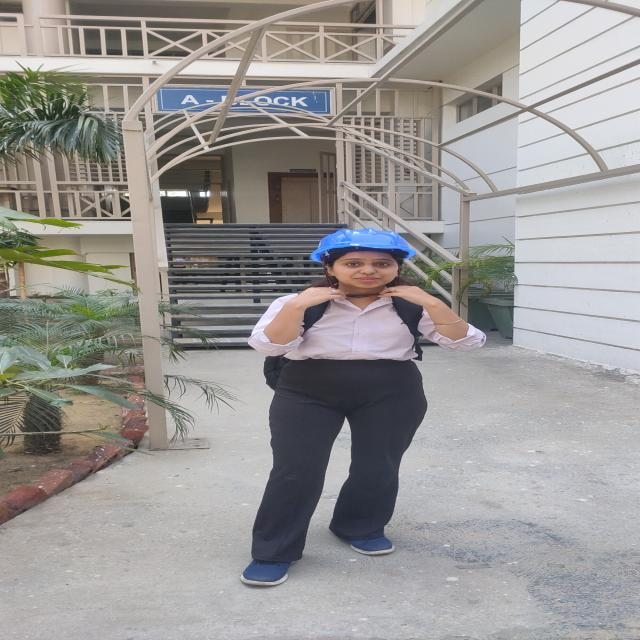no jacket: (251, 228, 425, 585)
